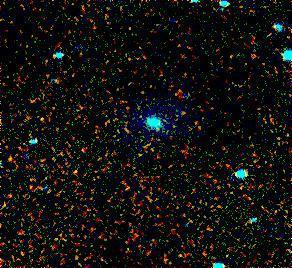star: (161, 75, 191, 105)
